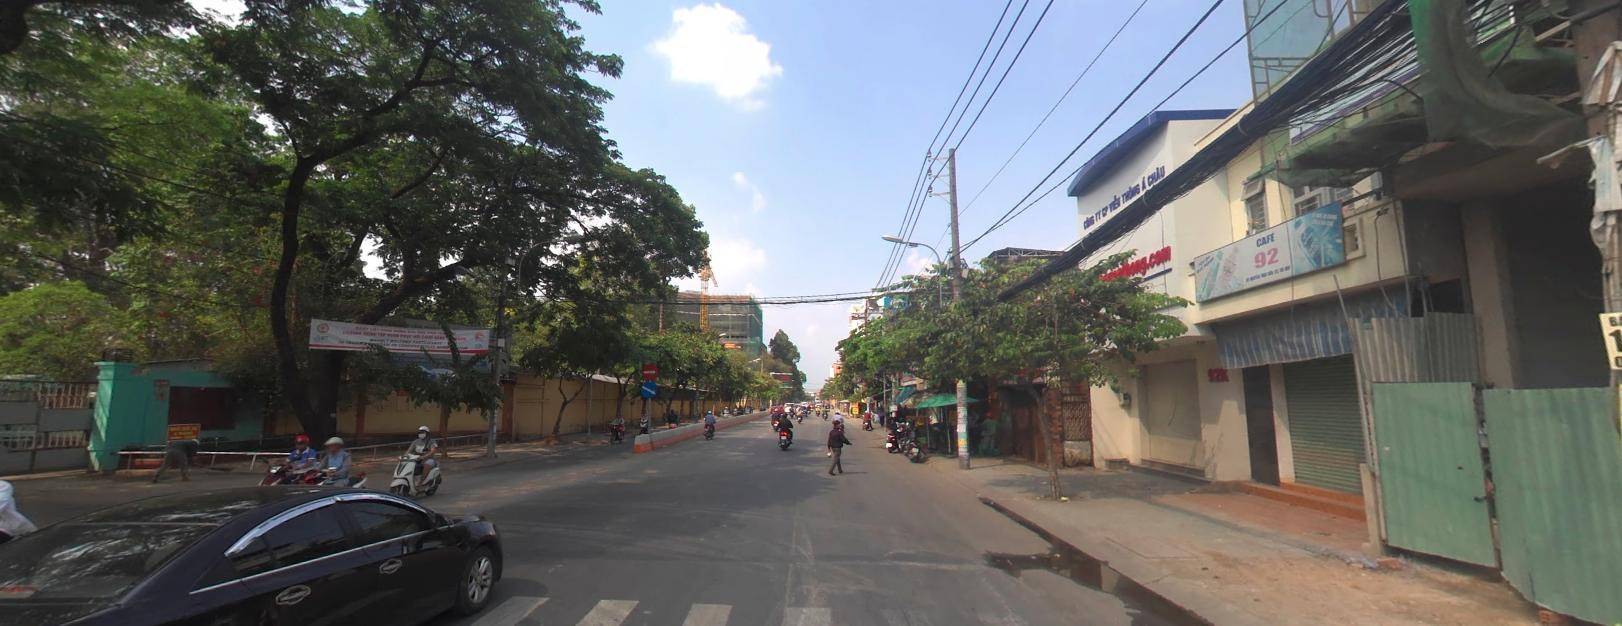Cam nguoc chieu: (642, 362, 656, 377)
Hieu lenh: (641, 380, 657, 396)
